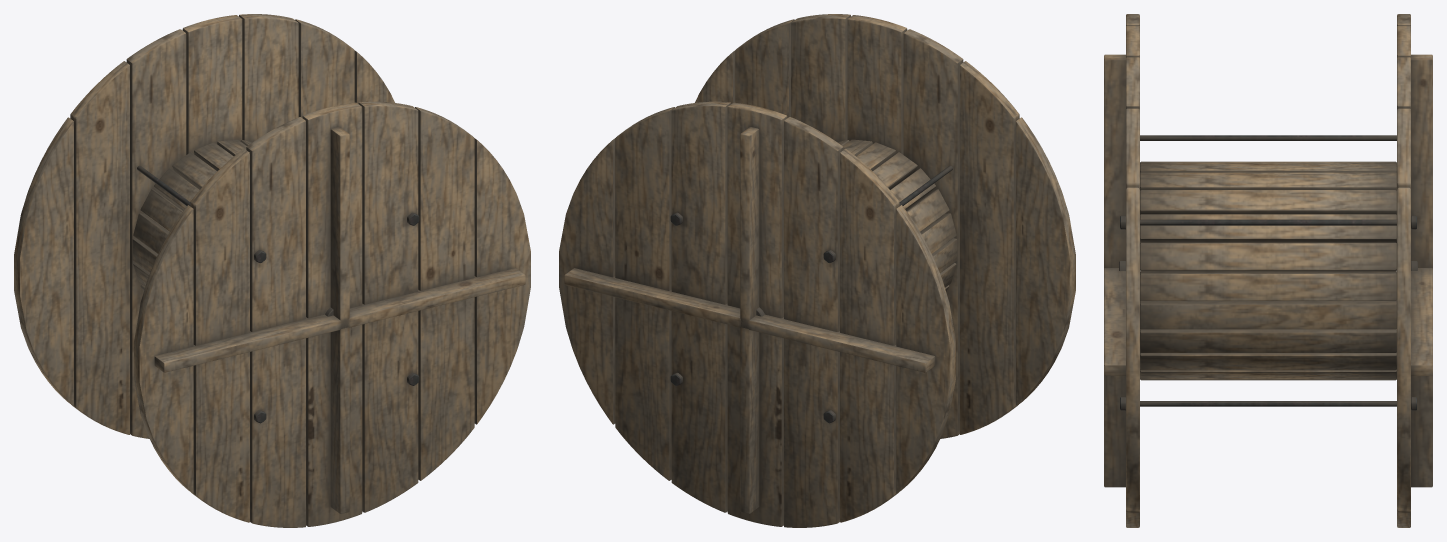
File: SM_CableSpool_Body.fbx
The picture shows the model from 3 angles, left to right: view 1: azimuth 30°, elevation 25°; view 2: azimuth 150°, elevation 25°; view 3: azimuth 270°, elevation 25°; orthographic projection. The views are drawn at different scales.
Parts seen in each view (by area): view 1: CableSpool_Body; view 2: CableSpool_Body; view 3: CableSpool_Body.
Boxes of the visible parts, left/top/right/bottom form: CableSpool_Body: left=14, top=14, right=530, bottom=527; CableSpool_Body: left=559, top=14, right=1075, bottom=527; CableSpool_Body: left=1104, top=14, right=1432, bottom=527.
Bounding box in the file's own units: 1.28 × 1.99 × 2.
Materials: 1 (1 with a texture image).
